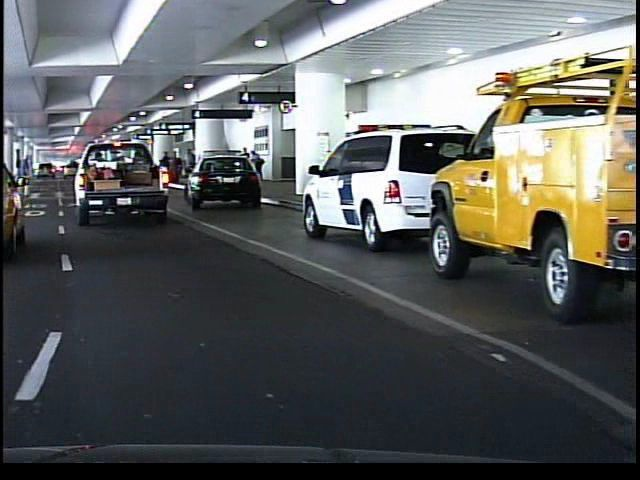person: (13, 151, 32, 203)
